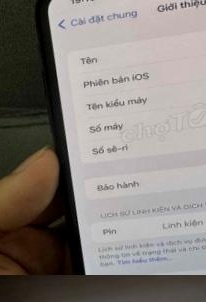scratch: (19, 0, 80, 15)
